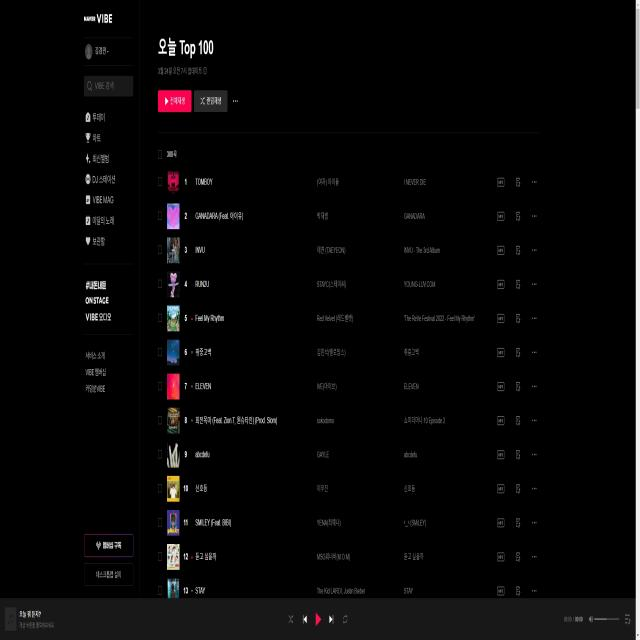menu-panel: (80, 5, 139, 596)
search: (83, 73, 135, 99)
